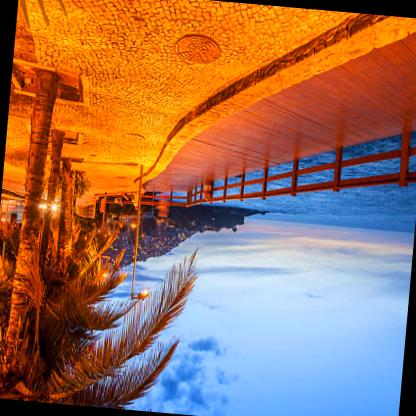manholes: (167, 18, 229, 76), (112, 115, 148, 156)
